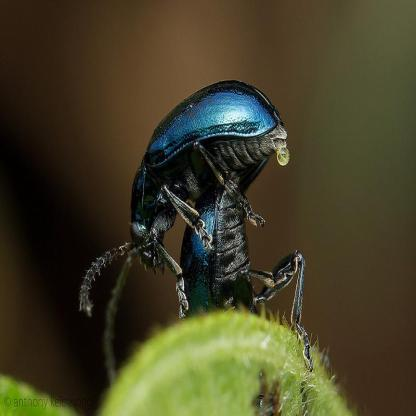beetle: (124, 77, 292, 274), (170, 168, 307, 326)
